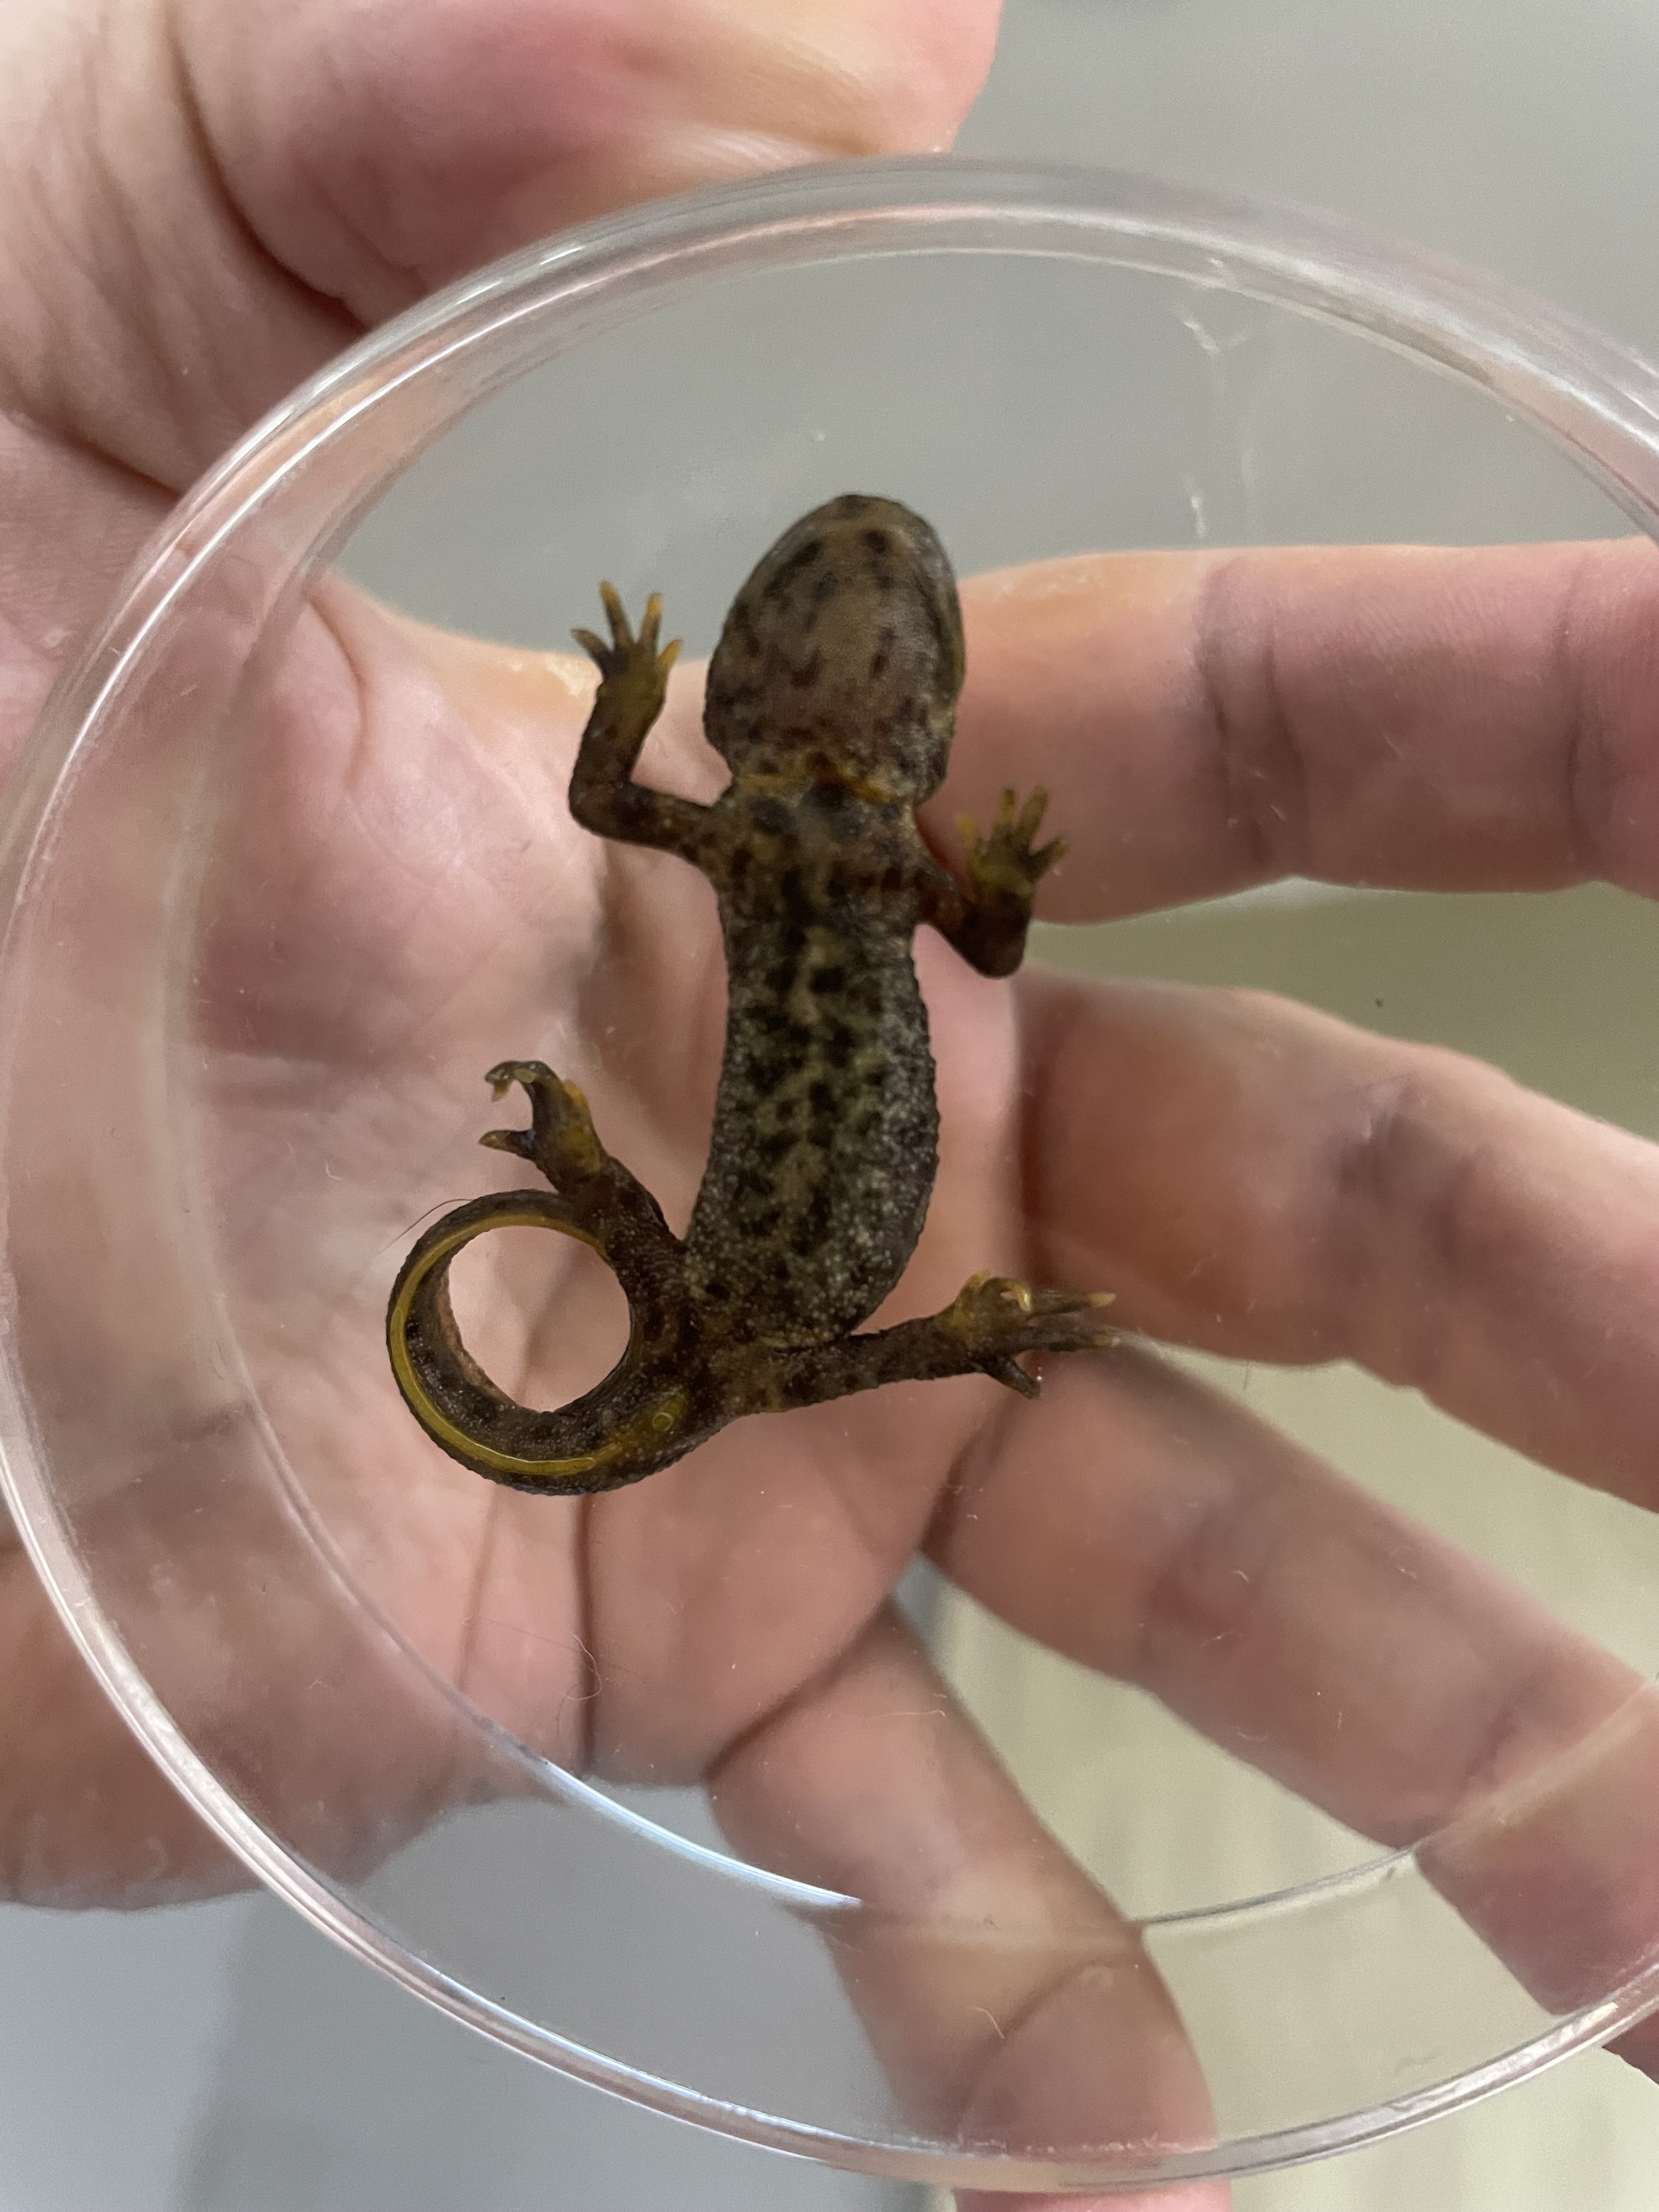newt_ribbed: (680, 866, 938, 1346)
